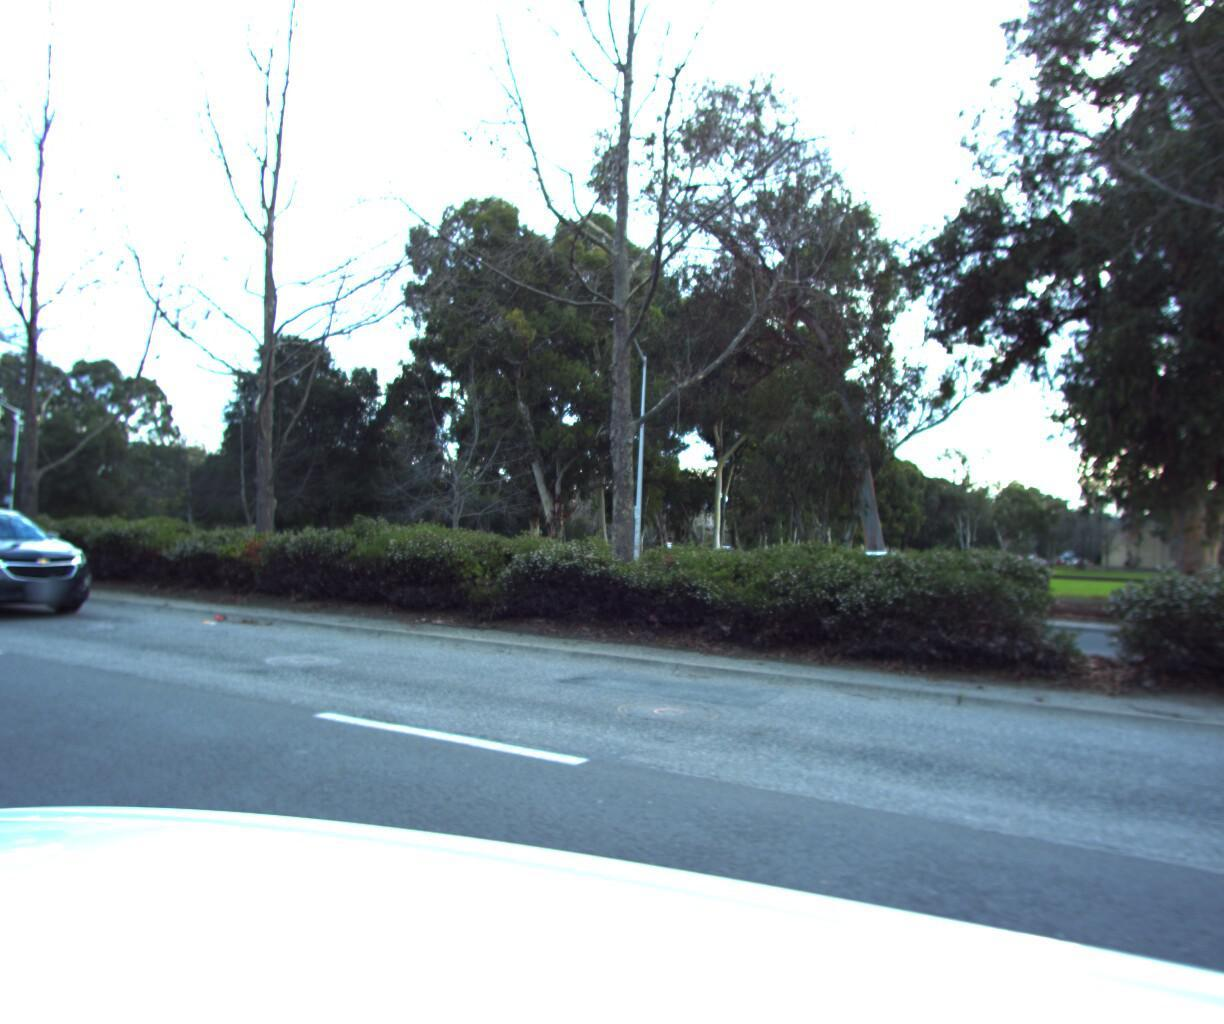car: (0, 498, 108, 624)
